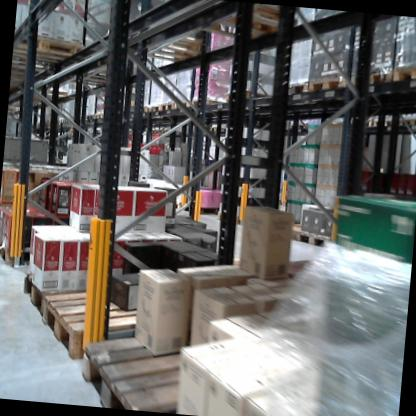pallet: (70, 332, 212, 416), (39, 281, 161, 369), (161, 0, 298, 49), (117, 25, 210, 74), (16, 268, 91, 327), (0, 232, 86, 274), (13, 29, 82, 66), (222, 86, 282, 112), (307, 74, 347, 102), (350, 62, 393, 83), (296, 228, 337, 250), (189, 96, 234, 116), (390, 58, 416, 83), (282, 79, 311, 99), (373, 115, 403, 131), (347, 116, 373, 130), (210, 123, 230, 137), (175, 96, 192, 112), (147, 104, 164, 118), (160, 101, 176, 115), (401, 118, 416, 132), (84, 111, 96, 124), (93, 111, 104, 122), (158, 128, 170, 137), (139, 107, 148, 115), (149, 129, 159, 135)
